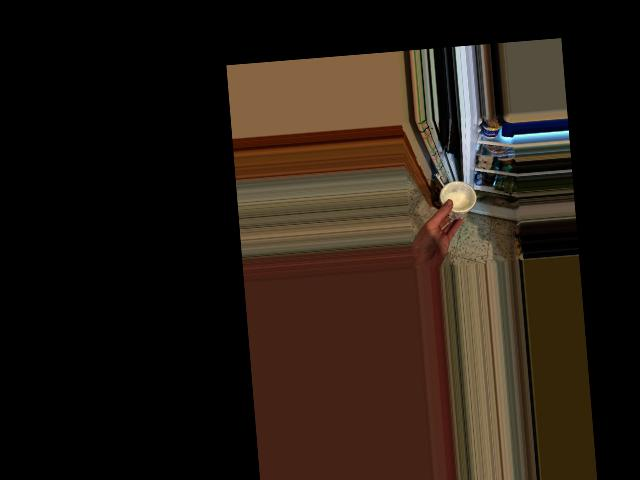cotage: (436, 178, 471, 220)
